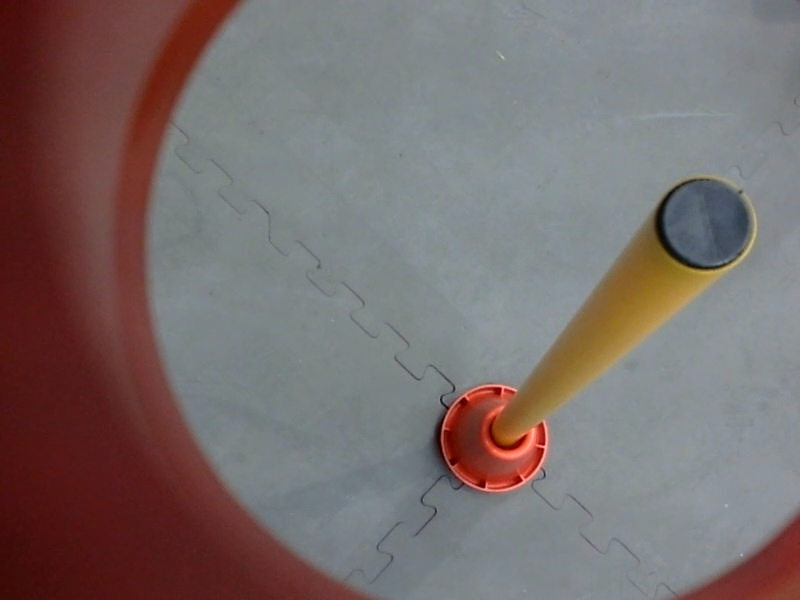tip: (649, 167, 764, 281)
